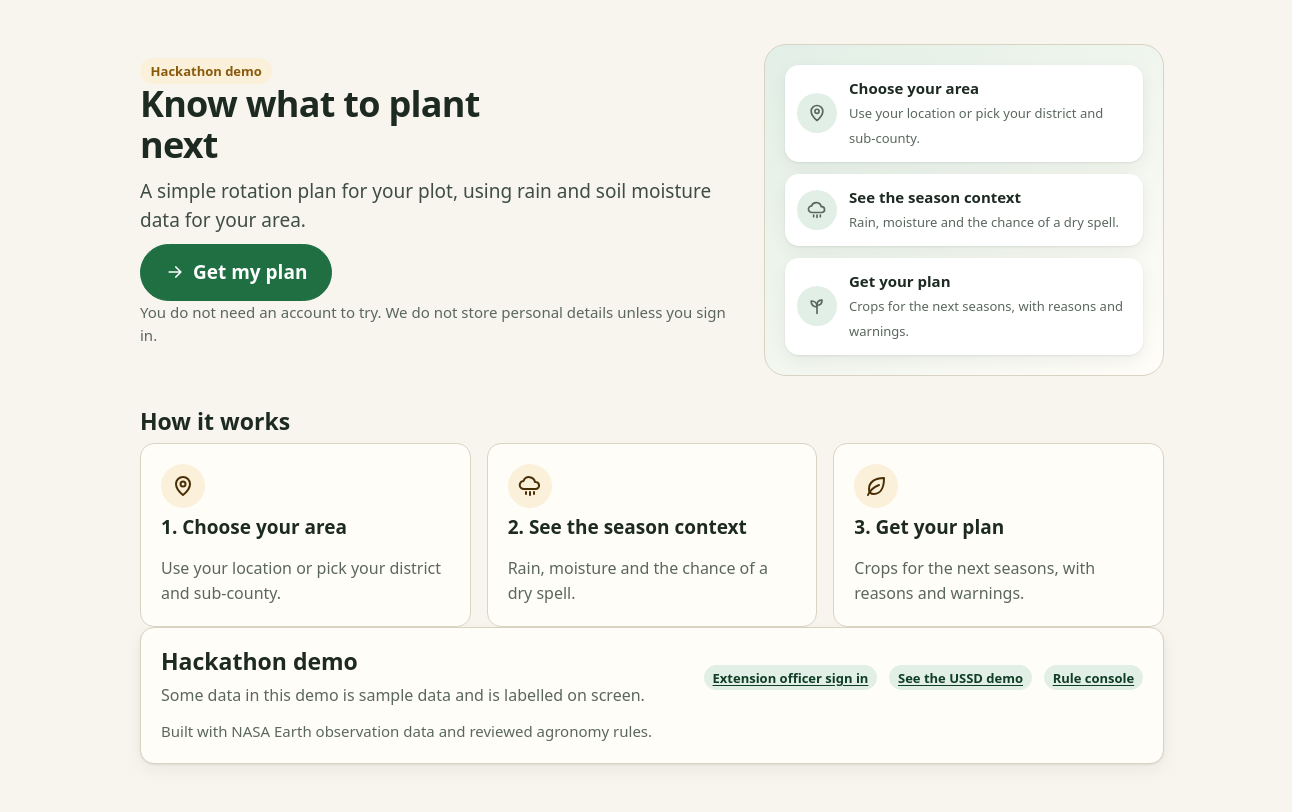
Test: WelcomePage › shows the value proposition and starts the farmer flow
expect the heading "Know what to plant next" is shown: met, box [140,84,490,165]
Click the button "Get my plan". click: x=236, y=272
box: [140,244,332,301]
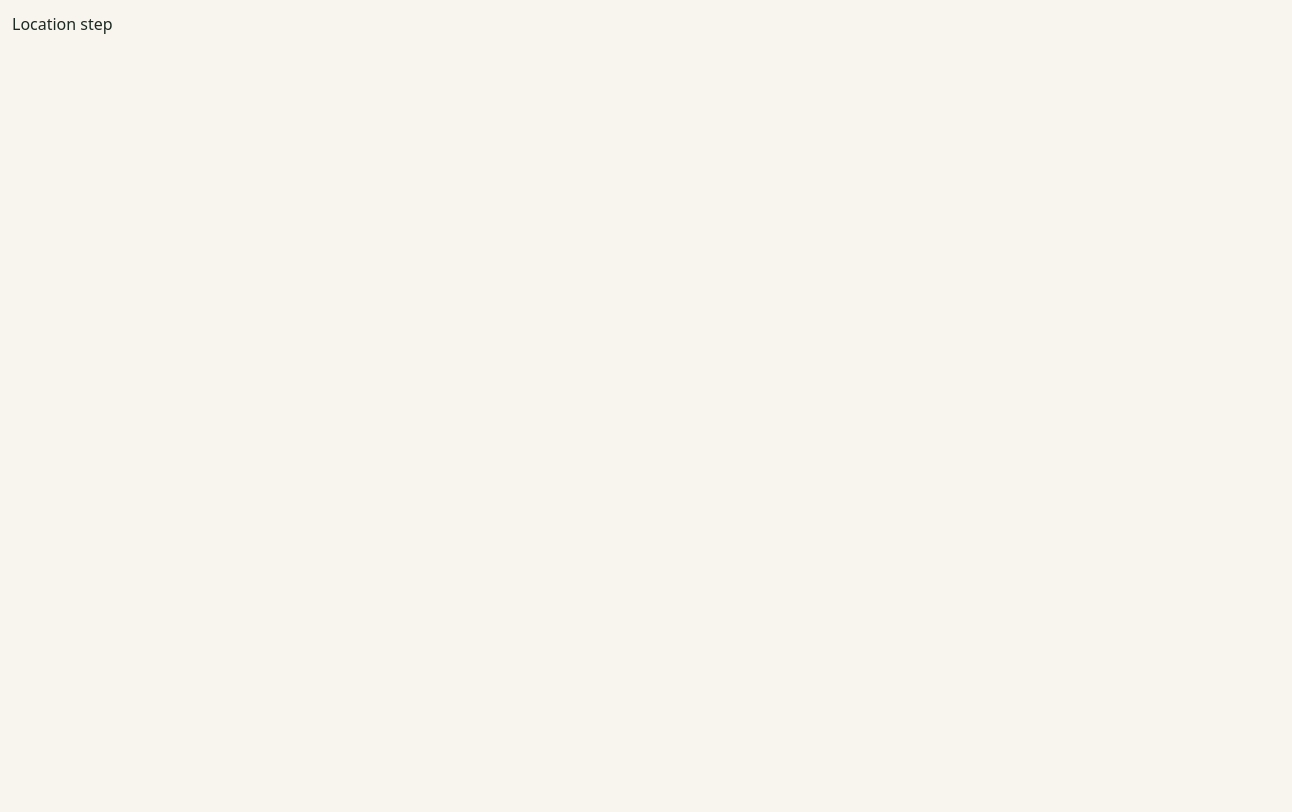
expect the text "Location step" is shown: met, box [12,13,113,35]
